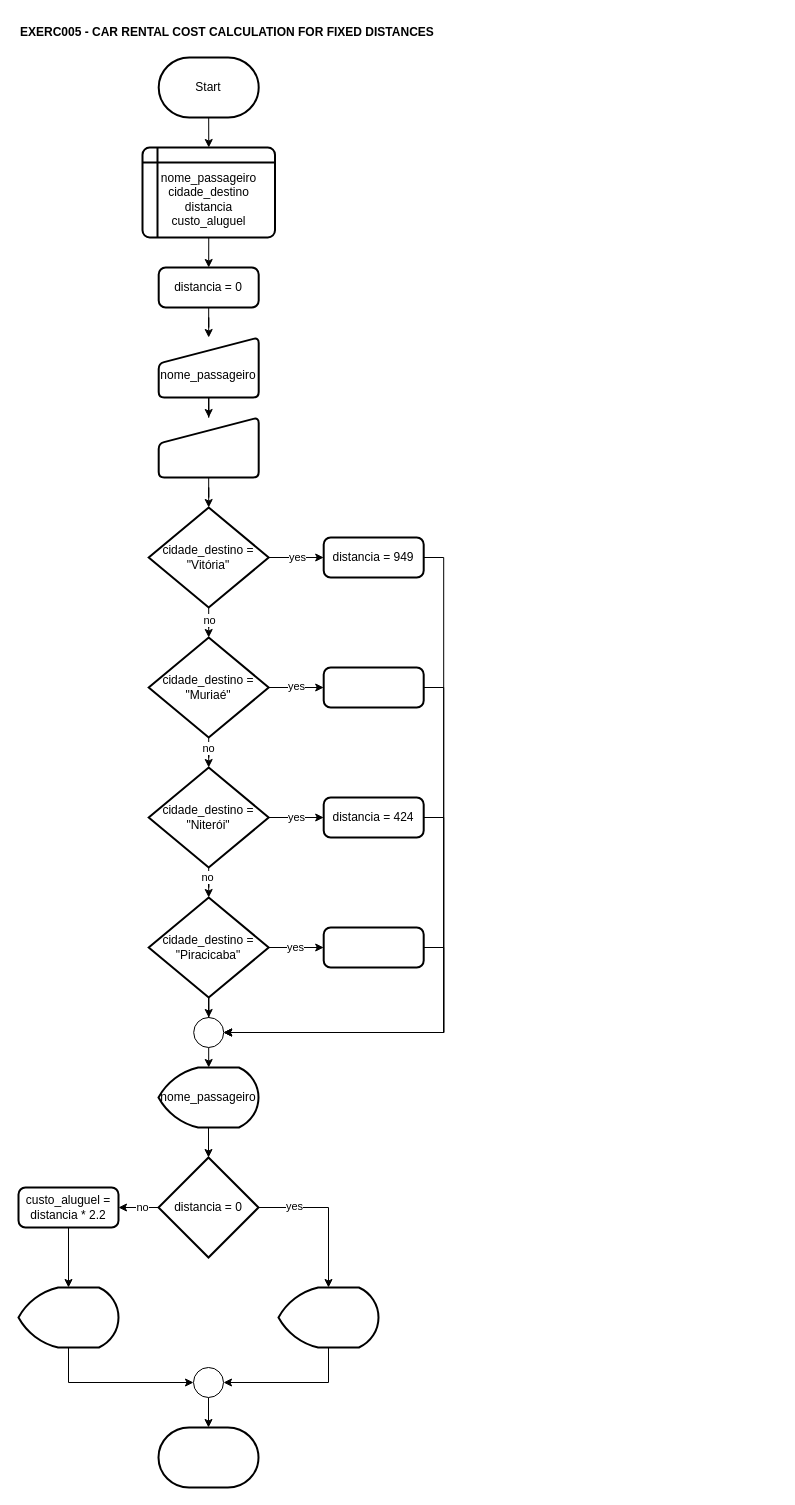
This 795x1505 diagram has some shape labels left out. The shapes that lost their labels are listed below. From the top down, each one's centre as x and y in pixels, then its label:
the point at 208,447: cidade_destino
the point at 373,687: distancia = 628
the point at 373,947: distancia = 168
the point at 68,1317: cidade_destino, distancia, custo_aluguel
the point at 328,1317: "Cidade não atendida pela empresa"
the point at 208,1457: Stop
